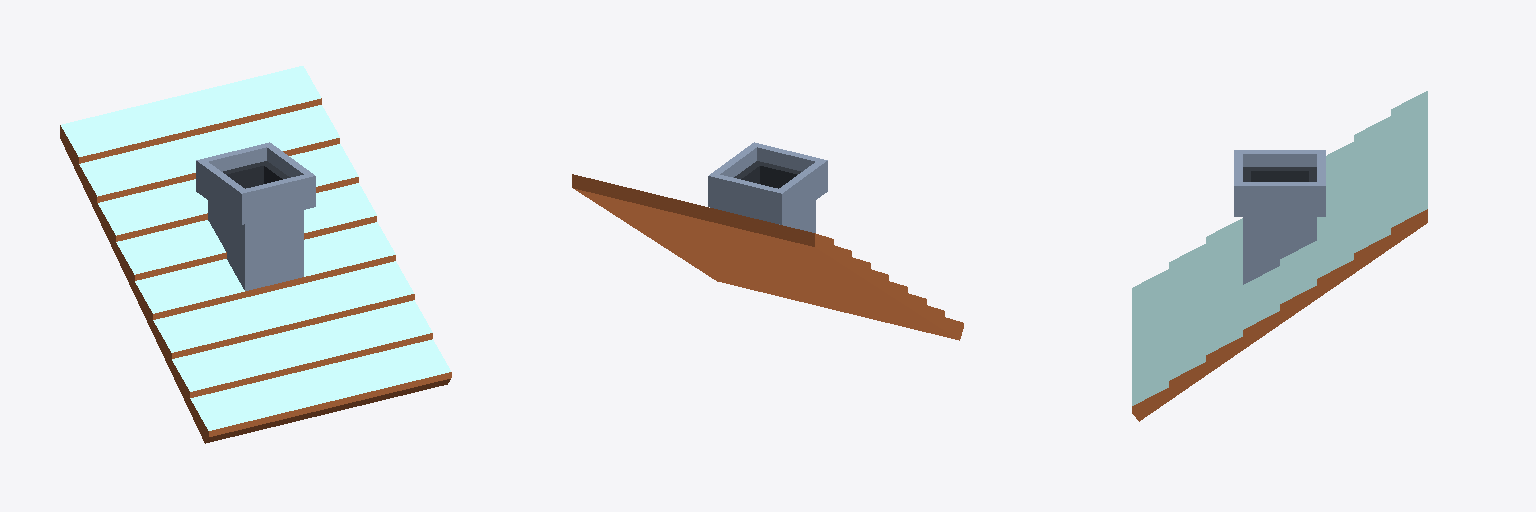
File: cabinRoofChimney.obj
3 renders of one model, left to right at view 1: azimuth 30°, elevation 25°; view 2: azimuth 150°, elevation 25°; view 3: azimuth 270°, elevation 25°, orthographic.
Visible parts, largest first — view 1: cabinRoofChimney; view 2: cabinRoofChimney; view 3: cabinRoofChimney.
Part boxes in pixels (left/top/right/bottom): cabinRoofChimney: left=60, top=66, right=451, bottom=443; cabinRoofChimney: left=572, top=142, right=963, bottom=340; cabinRoofChimney: left=1132, top=91, right=1427, bottom=421.
Bounding box in the file's own units: 1.14 × 0.9559 × 1.21.